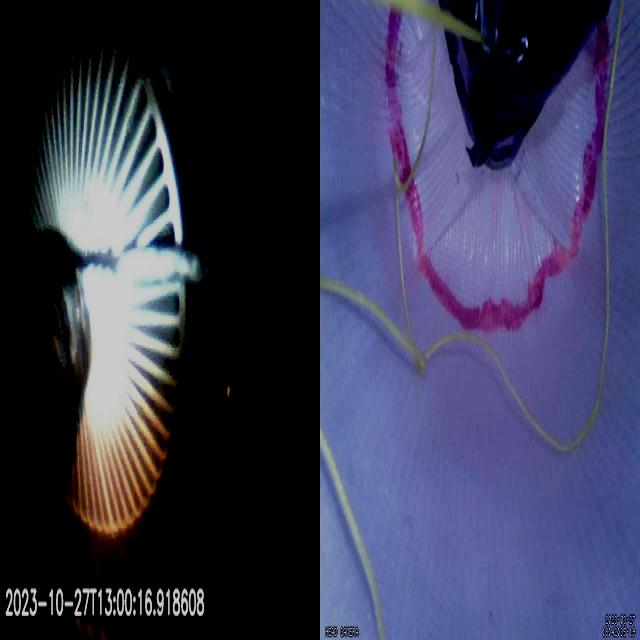red-circle: (384, 11, 611, 331)
